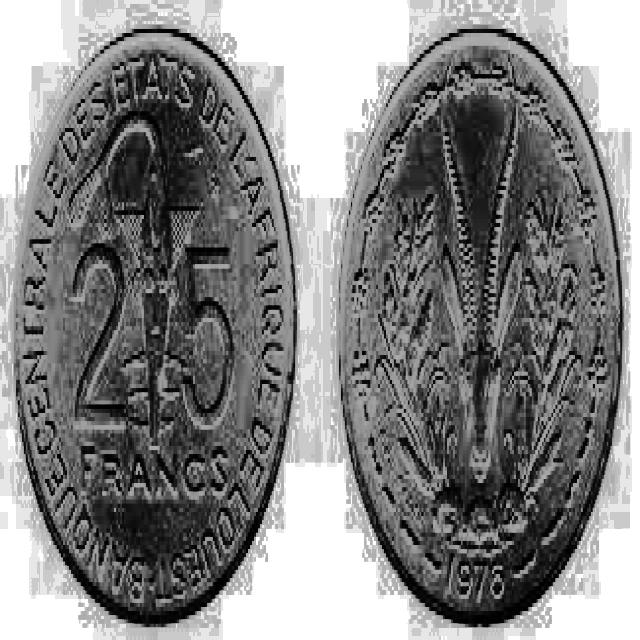juroom derem: (340, 31, 622, 621), (15, 31, 295, 616)
